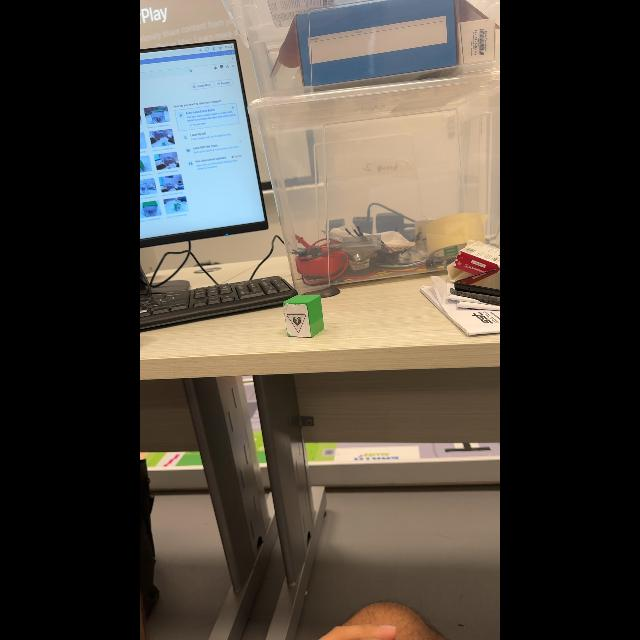Earthquake: (288, 314, 305, 332)
